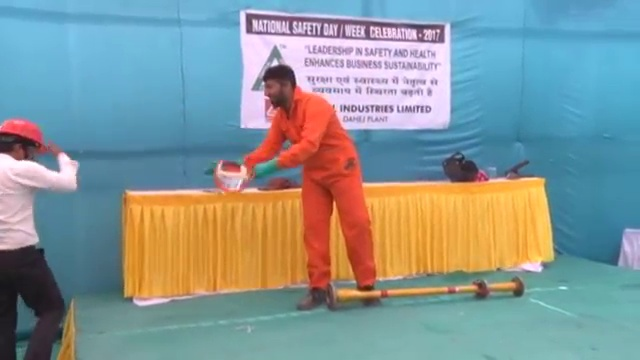helmet: (1, 116, 50, 151)
helmet_off: (262, 64, 297, 109)
helmet_on: (1, 116, 50, 164)
person: (223, 65, 381, 309), (1, 113, 83, 360)
